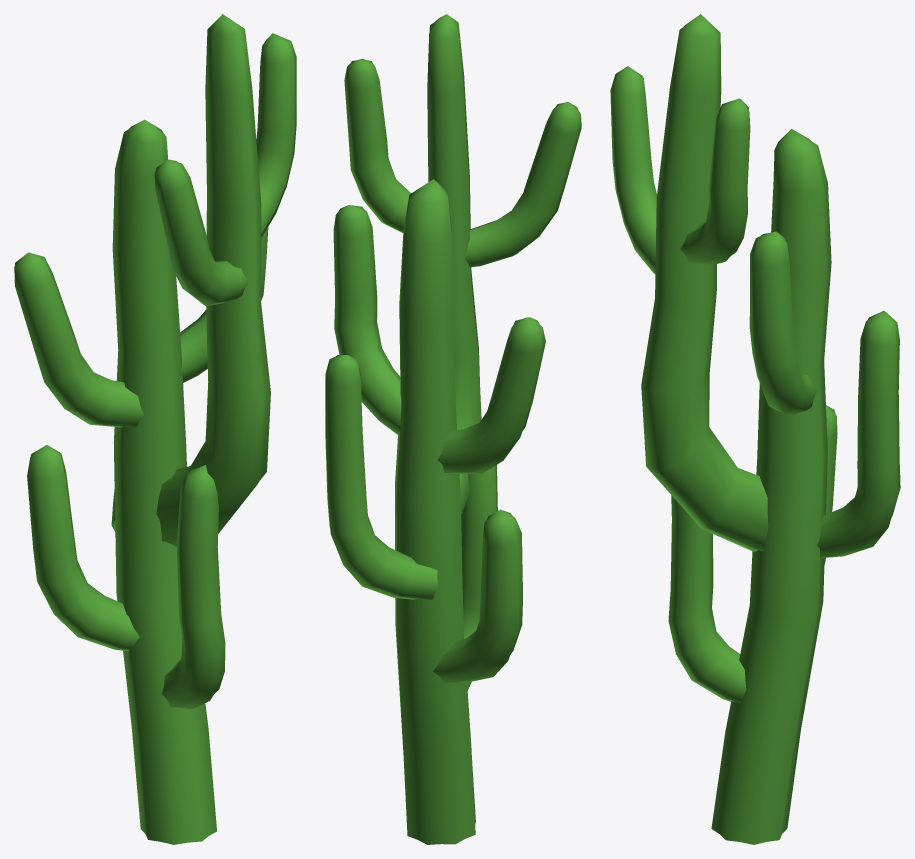
Rendered from cacto_pacote.glb.
3 renders of one model, left to right at view 1: azimuth 30°, elevation 25°; view 2: azimuth 150°, elevation 25°; view 3: azimuth 270°, elevation 25°, orthographic. The views are drawn at different scales.
Parts seen in each view (by area): view 1: cacto_pacote; view 2: cacto_pacote; view 3: cacto_pacote.
Boxes of the visible parts, bbox=[...] form: cacto_pacote: bbox=[14, 14, 296, 844]; cacto_pacote: bbox=[325, 14, 581, 844]; cacto_pacote: bbox=[610, 14, 900, 844].
Size of the model in its own units: 0.9906 by 3.27 by 1.04.
1 material, 1 textured.
